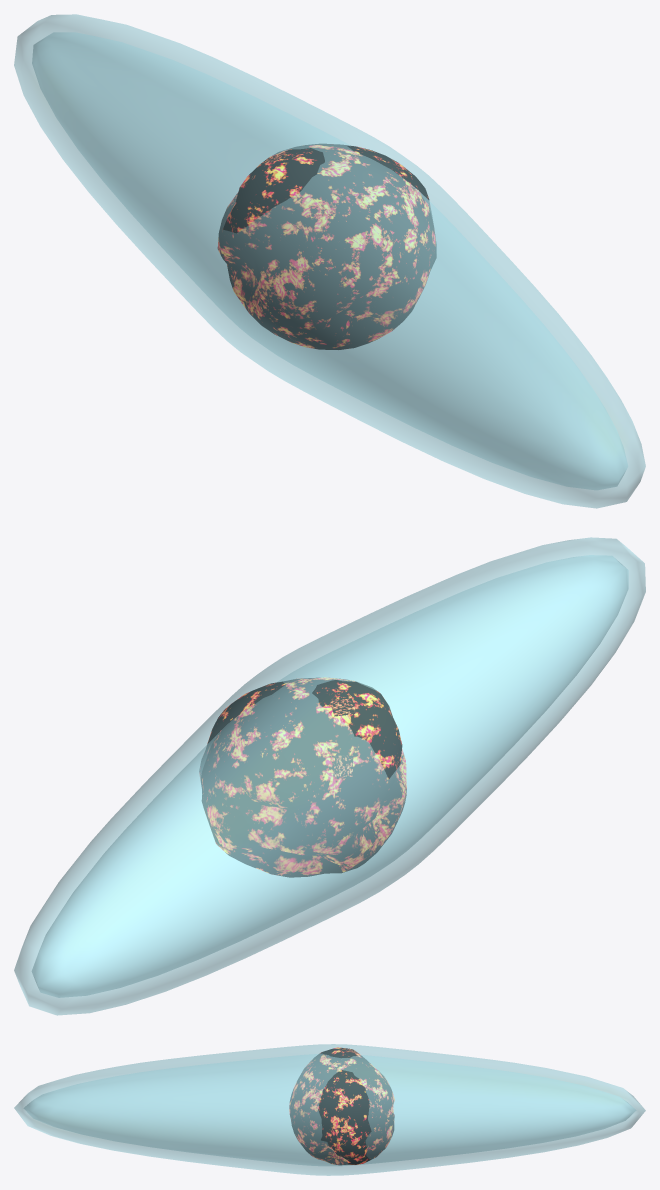
File: ufo.gltf
3 renders of one model, top to bottom at view 1: azimuth 30°, elevation 25°; view 2: azimuth 150°, elevation 25°; view 3: azimuth 270°, elevation 25°, orthographic. The views are drawn at different scales.
Visible parts, largest first — view 1: water ship, Sphere; view 2: water ship, Sphere; view 3: water ship, Sphere.
Boxes of the visible parts, x1,y1,x2,y2 form: water ship: [14, 14, 645, 508]; Sphere: [218, 144, 436, 349]; water ship: [14, 537, 645, 1015]; Sphere: [199, 677, 406, 877]; water ship: [14, 1044, 645, 1175]; Sphere: [289, 1047, 394, 1164].
Bounding box in the file's own units: 2.13 × 2.1 × 10.08.
Materials: 2 (1 with a texture image).
